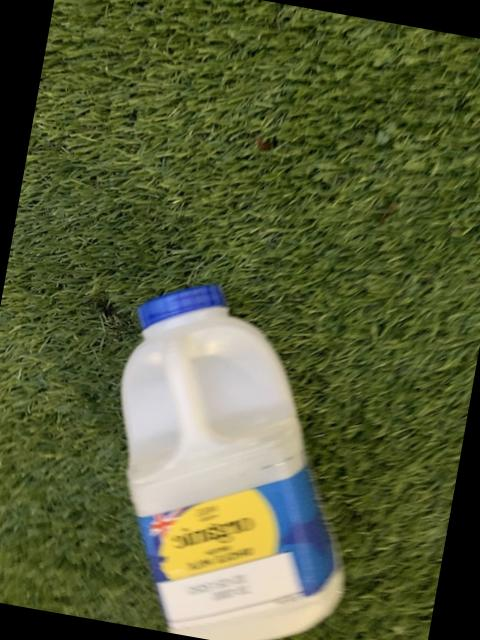plastic: (122, 284, 344, 640)
